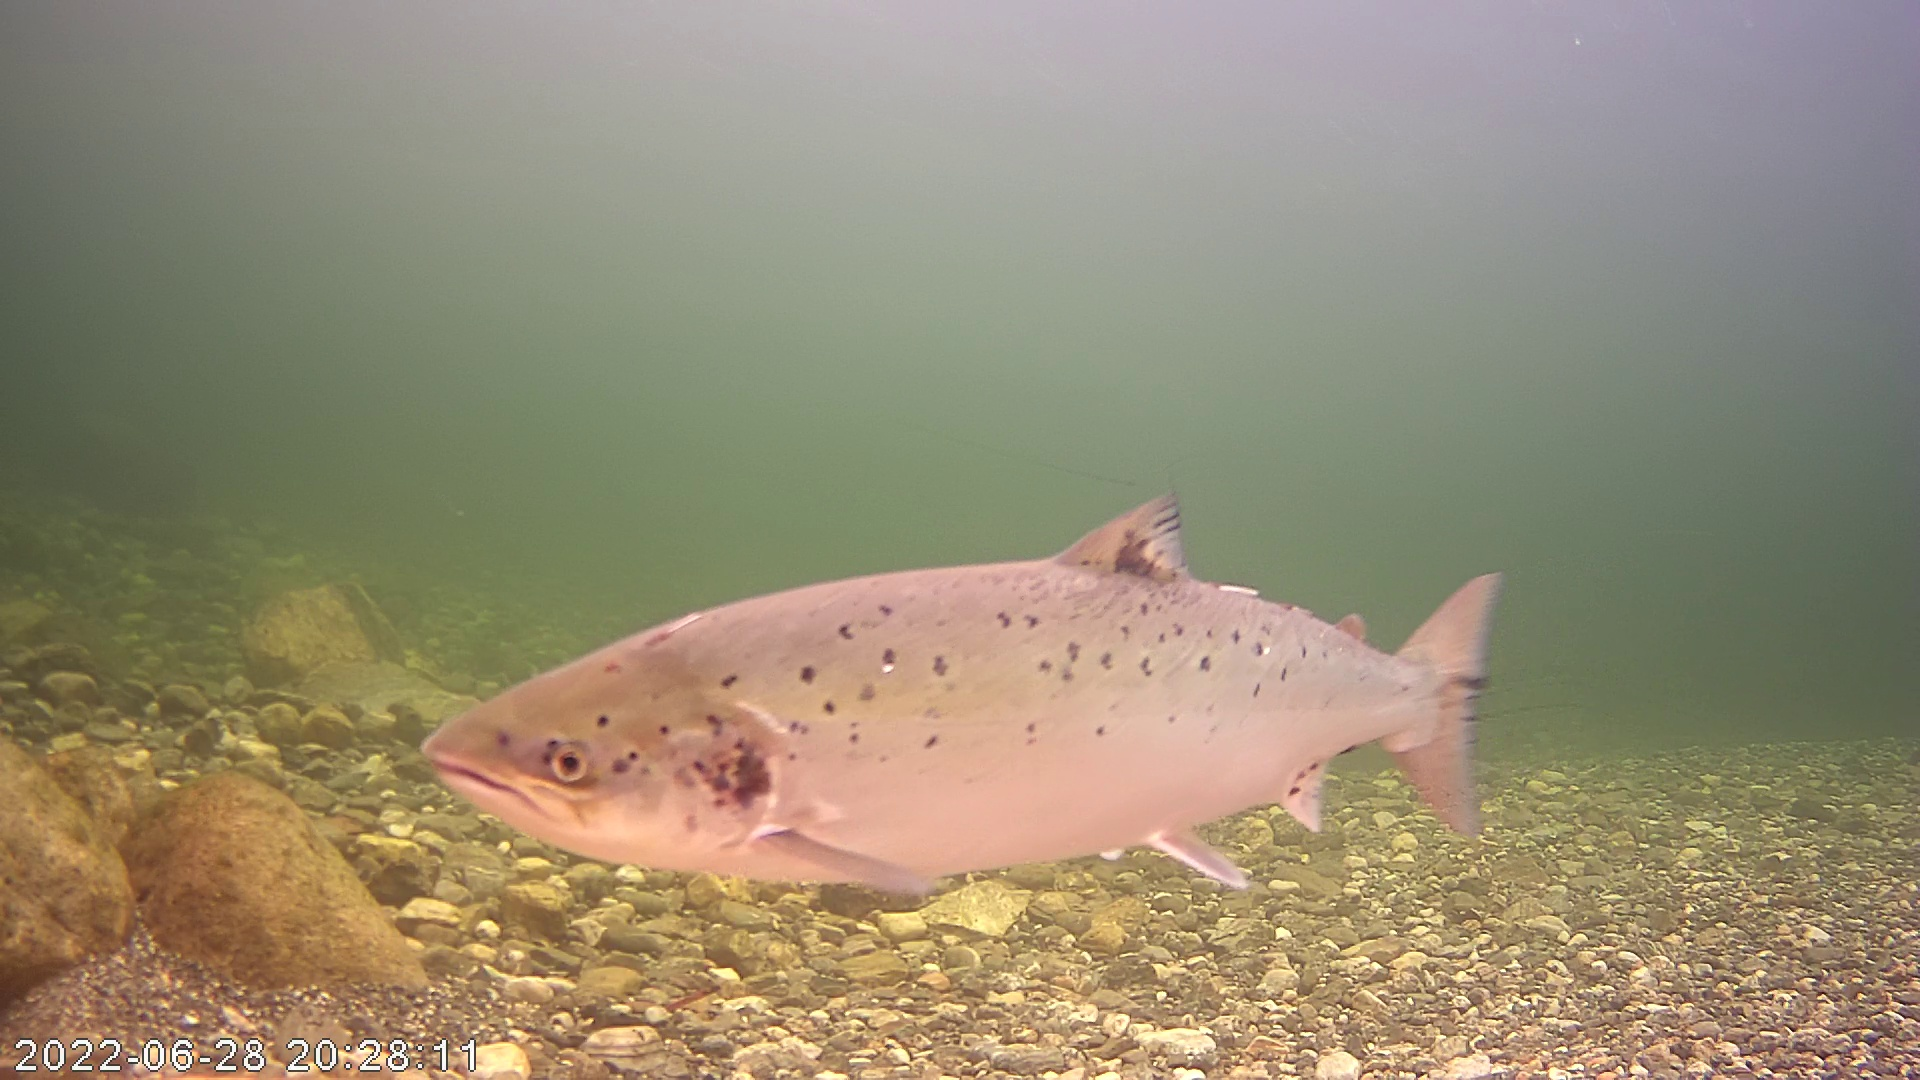salmon: (447, 444, 1513, 918)
